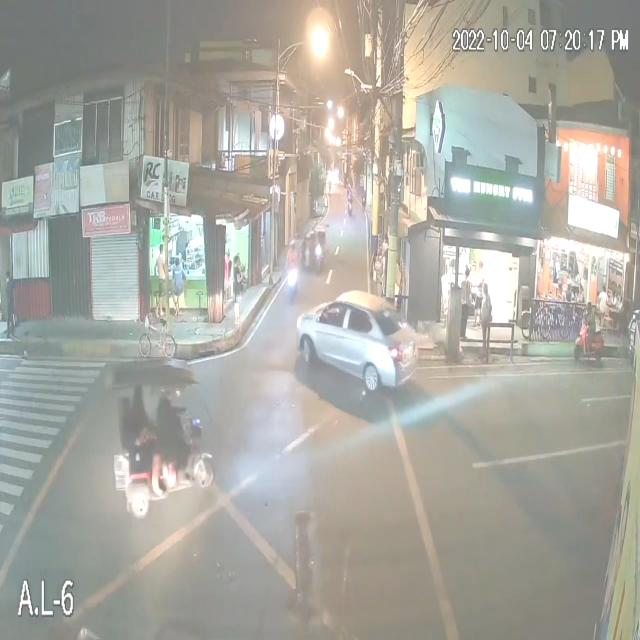Full-Faced: (289, 235, 297, 254)
